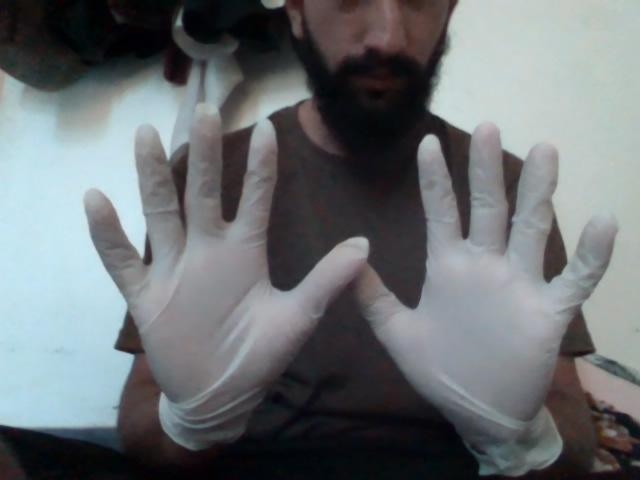gloves: (74, 104, 369, 449)
